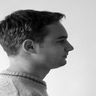ear: (19, 35, 40, 59)
